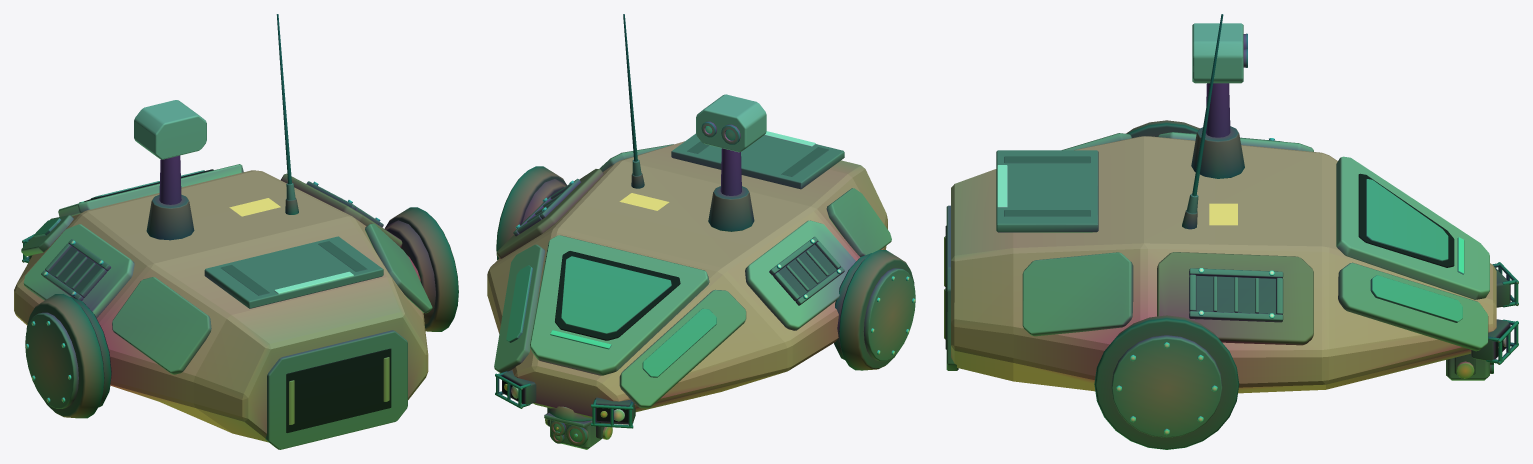
The model's file is core_fennek_recon.glb.
3 renders of one model, left to right at view 1: azimuth 30°, elevation 25°; view 2: azimuth 150°, elevation 25°; view 3: azimuth 270°, elevation 25°, orthographic. The views are drawn at different scales.
Visible parts, largest first — view 1: Body__armor_sub, Body__gunmetal, Body__dark, Body__armor, Body__bore, Body__armor_oxide, Body__copper, Body__decal, Body__hazard; view 2: Body__armor_sub, Body__armor, Body__gunmetal, Body__dark, Body__glass, Body__bore, Body__armor_oxide, Body__decal, Body__emit_cyan; view 3: Body__armor_sub, Body__gunmetal, Body__dark, Body__armor, Body__armor_oxide, Body__glass, Body__bore, Body__decal.
Boxes of the visible parts, x1,y1,x2,y2 form: Body__armor_sub: [14, 170, 432, 442]; Body__gunmetal: [22, 155, 407, 449]; Body__dark: [26, 14, 458, 418]; Body__armor: [23, 100, 243, 317]; Body__bore: [84, 169, 391, 432]; Body__armor_oxide: [281, 173, 402, 247]; Body__copper: [289, 357, 389, 424]; Body__decal: [229, 198, 280, 216]; Body__hazard: [274, 271, 353, 294]; Body__armor_sub: [487, 141, 891, 418]; Body__armor: [530, 94, 855, 375]; Body__gunmetal: [495, 121, 915, 446]; Body__dark: [496, 14, 914, 439]; Body__glass: [506, 129, 735, 442]; Body__bore: [502, 251, 680, 422]; Body__armor_oxide: [496, 169, 603, 258]; Body__decal: [619, 193, 669, 210]; Body__emit_cyan: [550, 126, 712, 437]; Body__armor_sub: [951, 133, 1496, 393]; Body__gunmetal: [946, 33, 1518, 437]; Body__dark: [1004, 14, 1510, 449]; Body__armor: [1157, 23, 1489, 299]; Body__armor_oxide: [1157, 252, 1313, 345]; Body__glass: [1366, 179, 1462, 322]; Body__bore: [945, 173, 1509, 357]; Body__decal: [1209, 203, 1237, 225].
Size of the model in its own units: 1.77 by 1.52 by 2.02.
